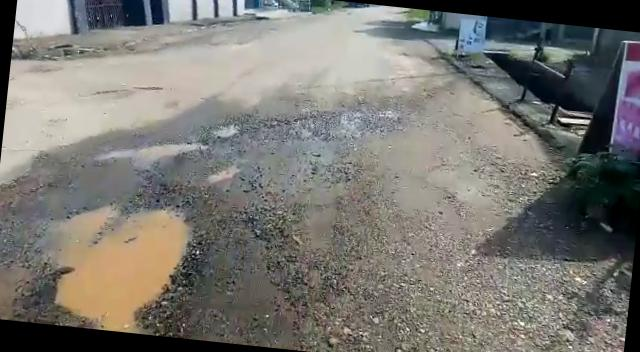pothole: (29, 197, 198, 338)
